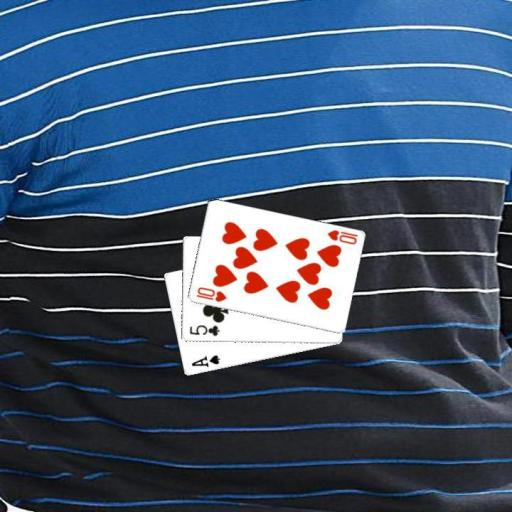10H: (193, 284, 228, 304), (324, 227, 359, 246)
5C: (187, 322, 221, 338)
AS: (188, 352, 221, 369)
